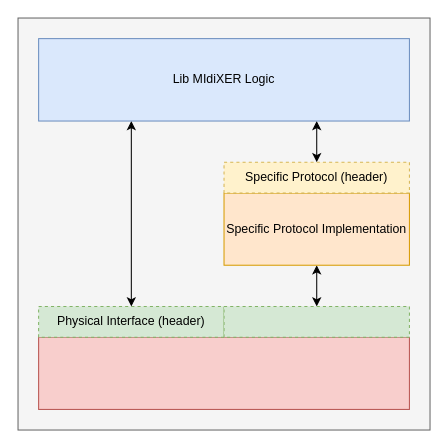
This 448x448 diagram has some shape labels left out. The box of each missing label's shape, as (x1, y1, x2, y2) in pixels:
Hardware Implementation: (38, 336, 409, 409)
MIDI Interface (header): (223, 305, 409, 337)
